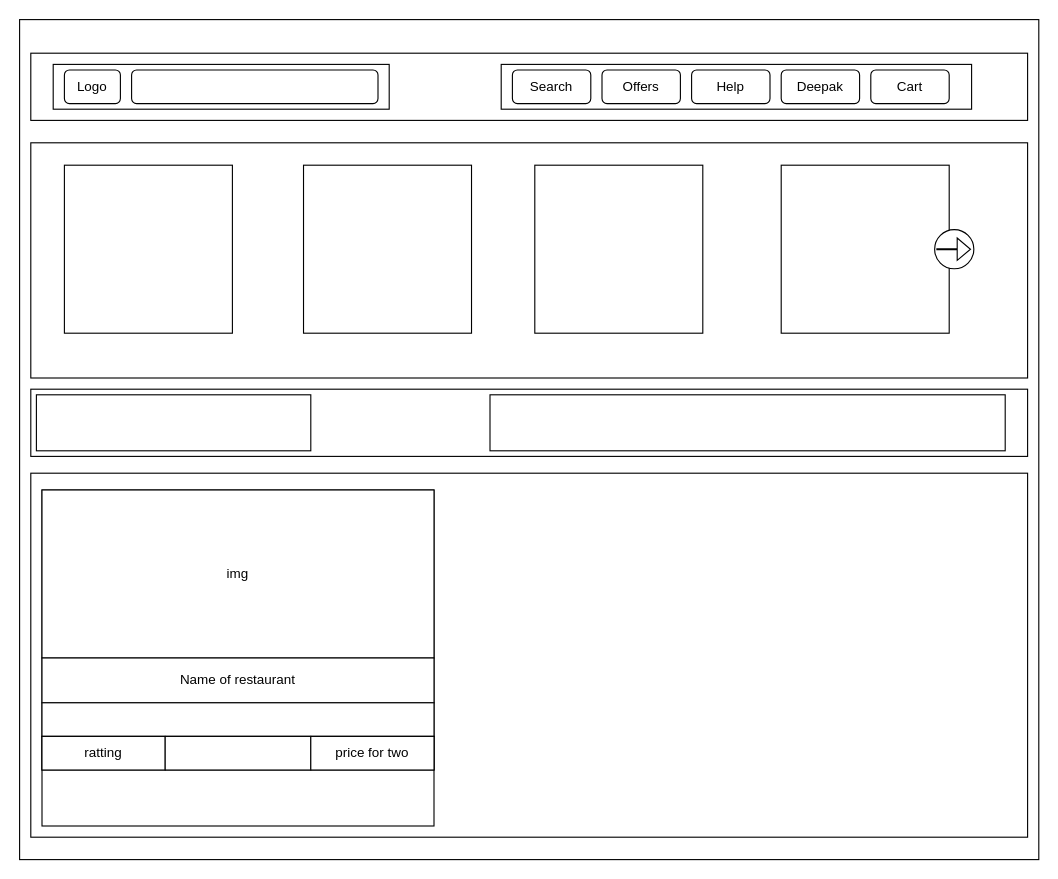
This 1058x879 diagram has some shape labels left out. The shapes that lost their labels are listed below. From the top down, each one's centre as x and y in pixels, then its label:
At point (254, 86): "Location Full Address".
At point (173, 422): "No. of Restaurants".
At point (747, 422): "Filters".
At point (237, 719): "Type of foods".
At point (237, 752): "Time of D".
